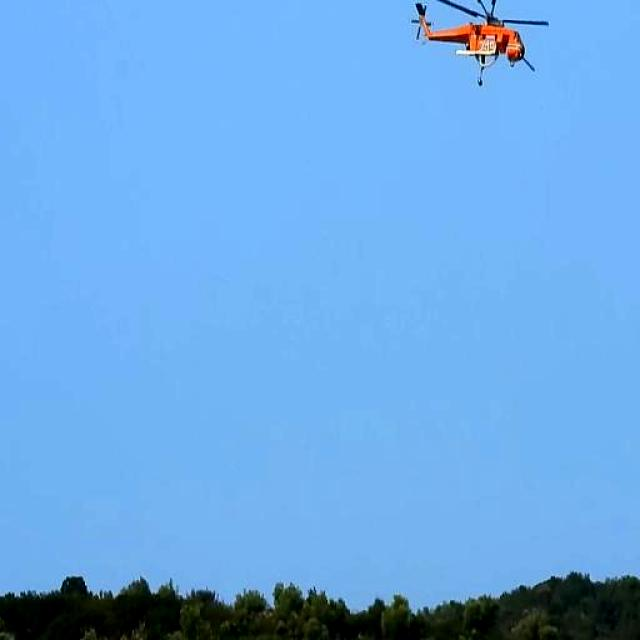drone: (412, 0, 549, 92)
